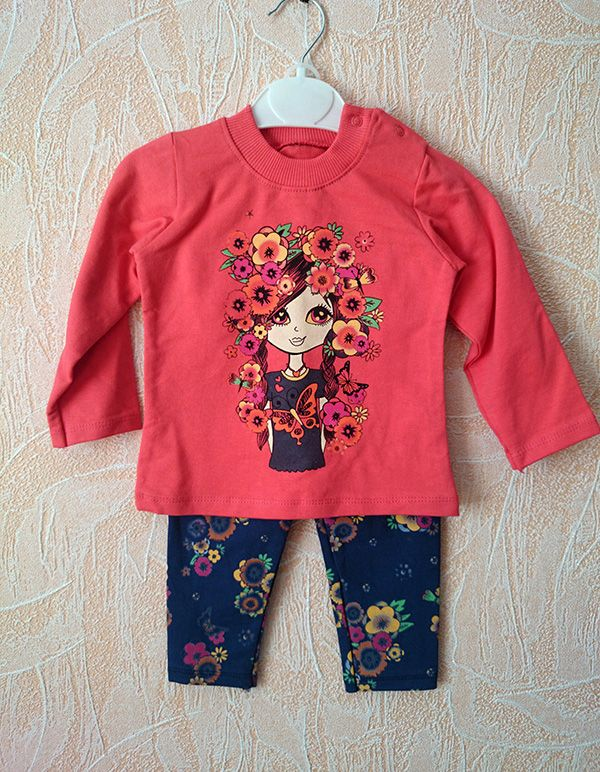clothes: (42, 94, 598, 703)
